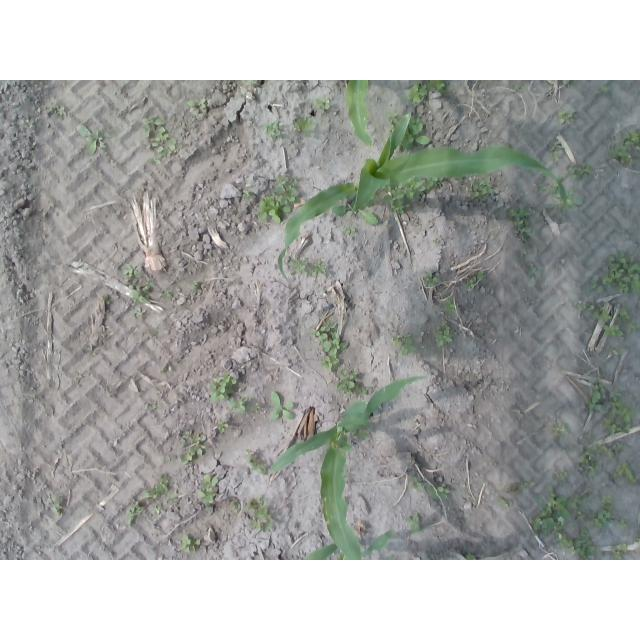Maize: (277, 110, 567, 278), (271, 376, 429, 561), (292, 528, 393, 561), (346, 81, 374, 148)
Weeds: (382, 175, 442, 214), (530, 485, 572, 536), (259, 173, 300, 223), (310, 321, 348, 372), (141, 115, 178, 166), (538, 175, 582, 215), (331, 191, 380, 225), (601, 253, 640, 295), (603, 393, 636, 436), (76, 123, 120, 155), (393, 116, 429, 149), (246, 495, 274, 533), (508, 206, 533, 243), (181, 431, 207, 465), (337, 368, 368, 396), (590, 494, 615, 528), (208, 371, 236, 401), (140, 473, 169, 499), (268, 391, 294, 419), (197, 472, 219, 505), (574, 528, 596, 560), (586, 379, 608, 410), (577, 448, 599, 478), (391, 332, 418, 355), (572, 488, 590, 520), (406, 80, 429, 104), (468, 177, 493, 199), (607, 146, 633, 167), (128, 282, 153, 303), (611, 465, 638, 484), (591, 442, 622, 458), (229, 397, 260, 413), (568, 162, 594, 181), (557, 528, 576, 553), (526, 263, 544, 289), (464, 270, 485, 292), (292, 116, 316, 135), (246, 453, 266, 475), (180, 534, 201, 554), (621, 129, 640, 151), (435, 323, 454, 345), (549, 139, 566, 163), (384, 111, 401, 134), (428, 81, 453, 96), (586, 275, 605, 294), (288, 257, 308, 275), (592, 307, 613, 324), (442, 298, 459, 319), (121, 262, 143, 278), (427, 484, 449, 500), (128, 502, 142, 527), (552, 421, 570, 440), (188, 97, 207, 115), (266, 121, 283, 140), (46, 104, 67, 119), (350, 425, 371, 440), (611, 542, 628, 560), (50, 496, 64, 517), (422, 271, 439, 288), (409, 476, 426, 493), (557, 108, 575, 124), (407, 514, 421, 534), (603, 324, 623, 337), (316, 96, 332, 111), (309, 261, 325, 276), (616, 307, 630, 323), (228, 500, 241, 516), (577, 301, 595, 312), (216, 419, 229, 434), (496, 496, 511, 508), (512, 80, 526, 92), (192, 279, 204, 293), (626, 324, 640, 336), (557, 470, 569, 483), (241, 189, 255, 199), (609, 345, 620, 356), (519, 481, 536, 488), (132, 307, 145, 316), (164, 290, 177, 299), (598, 86, 611, 95), (153, 504, 163, 515), (618, 519, 628, 529), (561, 80, 579, 85), (464, 553, 476, 560), (584, 433, 596, 440), (103, 293, 109, 305), (519, 249, 528, 257), (346, 227, 356, 234), (149, 404, 159, 410), (635, 535, 640, 545), (165, 457, 171, 464), (247, 80, 255, 84), (387, 556, 393, 561)
